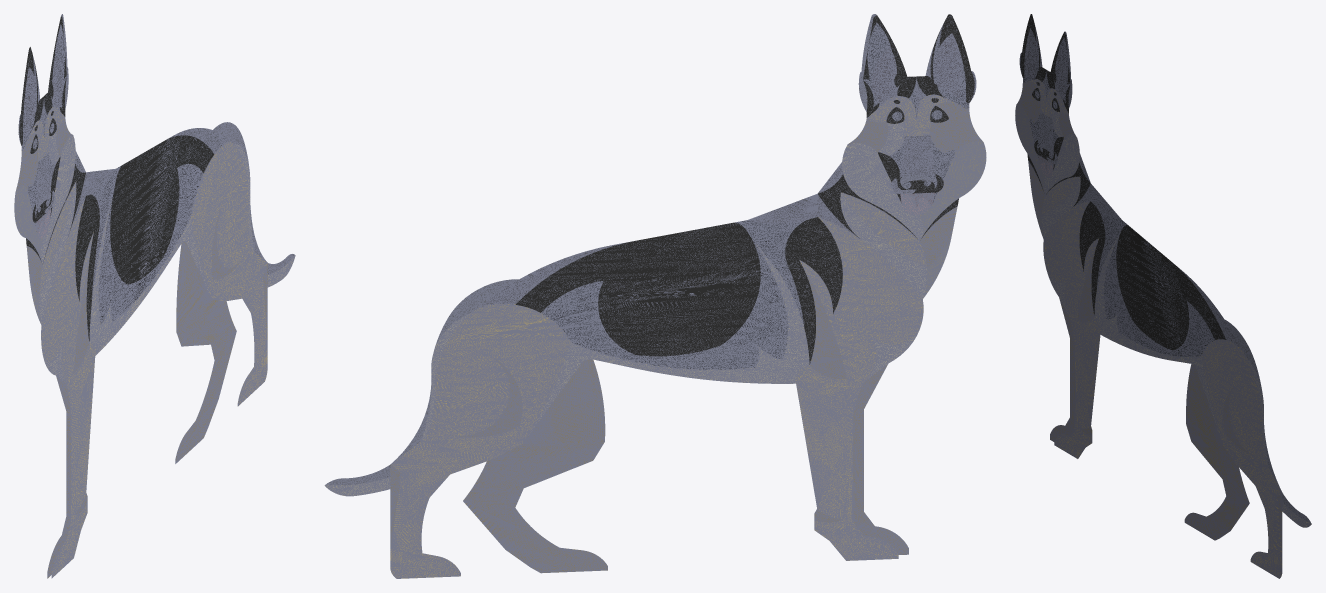
3 views of the same model, side by side, from view 1: azimuth 30°, elevation 25°; view 2: azimuth 150°, elevation 25°; view 3: azimuth 270°, elevation 25° (orthographic). The views are drawn at different scales.
Parts seen in each view (by area): view 1: German_Shepherd1; view 2: German_Shepherd1; view 3: German_Shepherd1.
Part boxes in pixels (left/top/right/bottom): German_Shepherd1: left=14, top=14, right=295, bottom=578; German_Shepherd1: left=324, top=14, right=986, bottom=578; German_Shepherd1: left=1015, top=14, right=1311, bottom=578.
Bounding box in the file's own units: 41.44 × 46.05 × 29.47.
